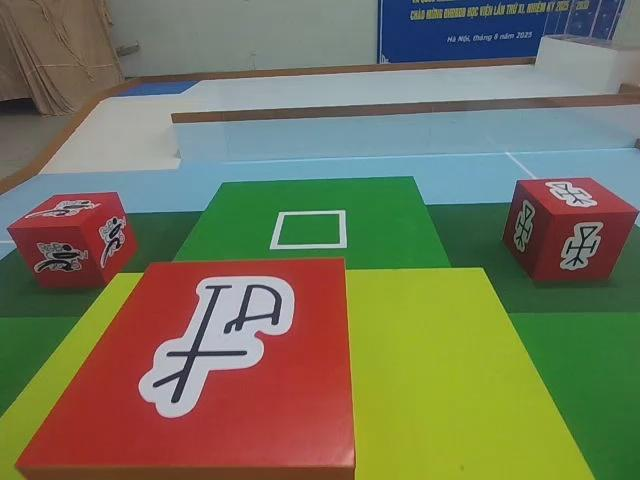R1: (5, 189, 140, 293)
R2 Real: (13, 254, 358, 480), (499, 174, 638, 285)
